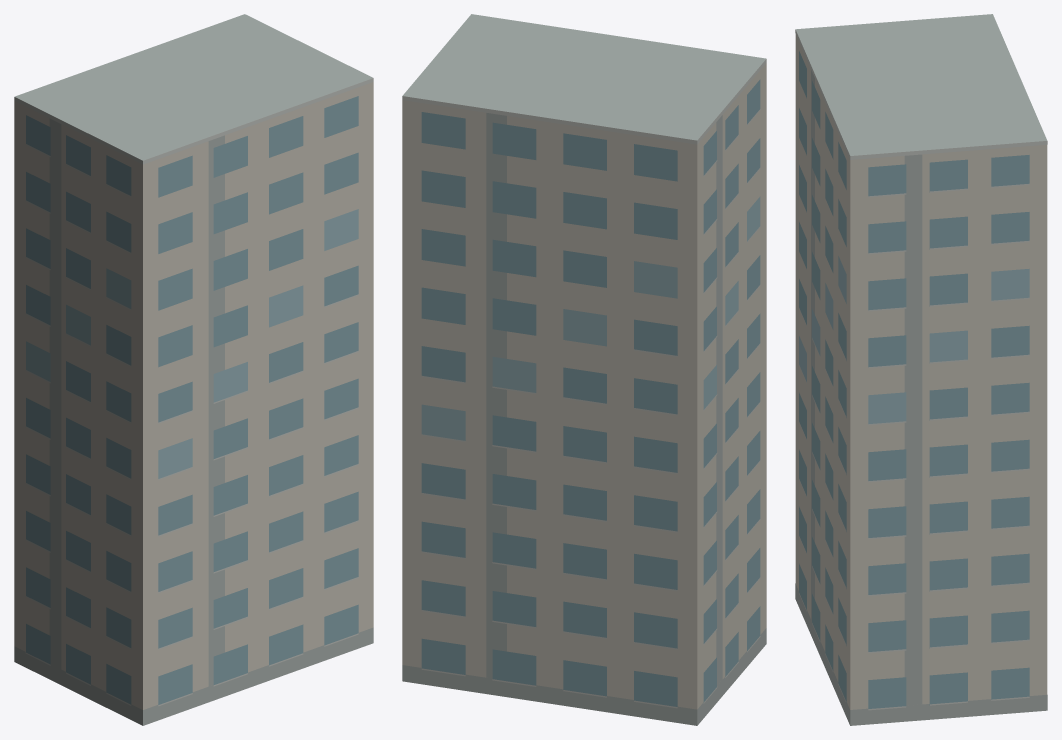
The model's file is residential-4f9bae51-599d-4e01-adf9-da4c13074c88.glb.
The picture shows the model from 3 angles, left to right: view 1: azimuth 30°, elevation 25°; view 2: azimuth 150°, elevation 25°; view 3: azimuth 270°, elevation 25°; orthographic projection. The views are drawn at different scales.
Visible parts, largest first — view 1: residential-4f9bae51-599d-4e01-adf9-da4c13074c88.tmp; view 2: residential-4f9bae51-599d-4e01-adf9-da4c13074c88.tmp; view 3: residential-4f9bae51-599d-4e01-adf9-da4c13074c88.tmp.
Boxes of the visible parts, x1,y1,x2,y2 form: residential-4f9bae51-599d-4e01-adf9-da4c13074c88.tmp: (14,14,373,725); residential-4f9bae51-599d-4e01-adf9-da4c13074c88.tmp: (402,14,766,725); residential-4f9bae51-599d-4e01-adf9-da4c13074c88.tmp: (795,14,1047,725).
Bounding box in the file's own units: 18.73 × 35 × 14.04.
